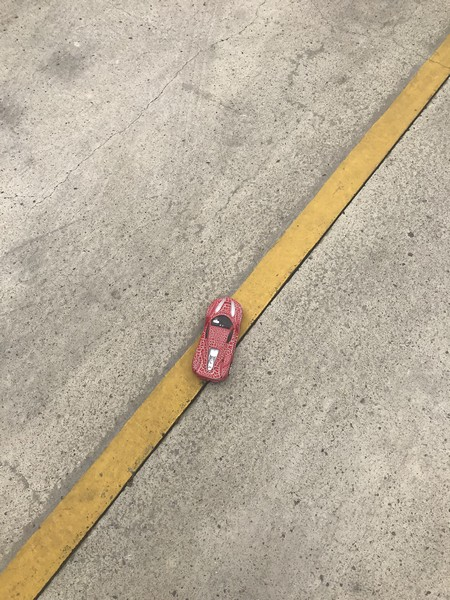RC: (191, 295, 245, 383)
